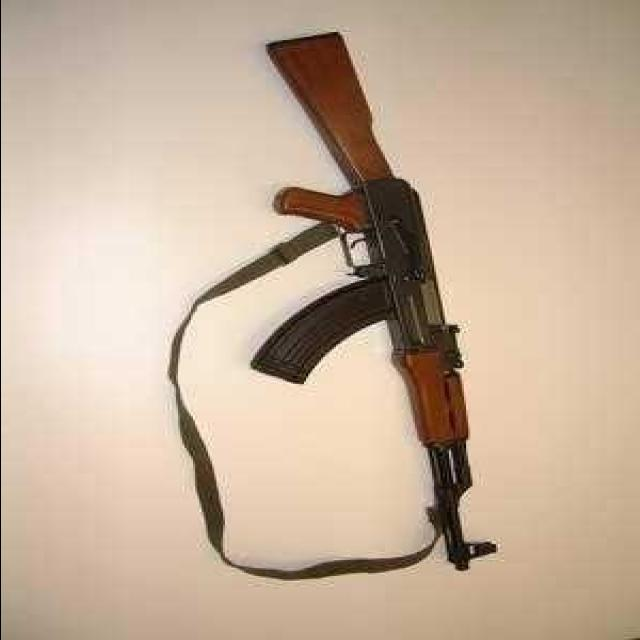heavyweapon: (180, 30, 530, 608)
